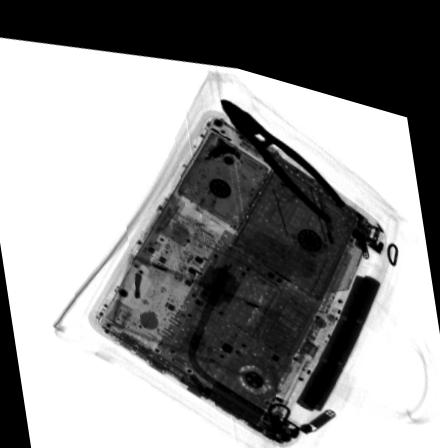Pliers: (220, 83, 346, 203)
